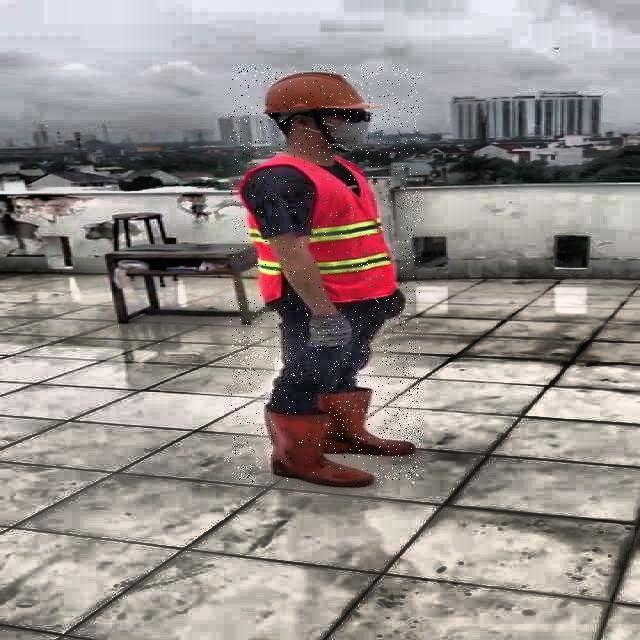safety_helmet: (257, 70, 370, 113)
safety_jacket: (233, 155, 400, 300)
